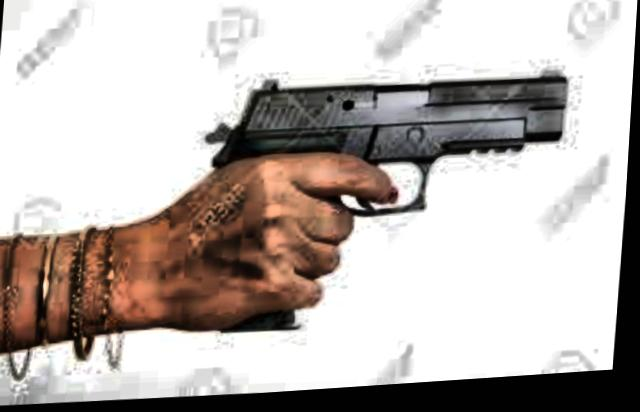pistol: (196, 63, 580, 344)
